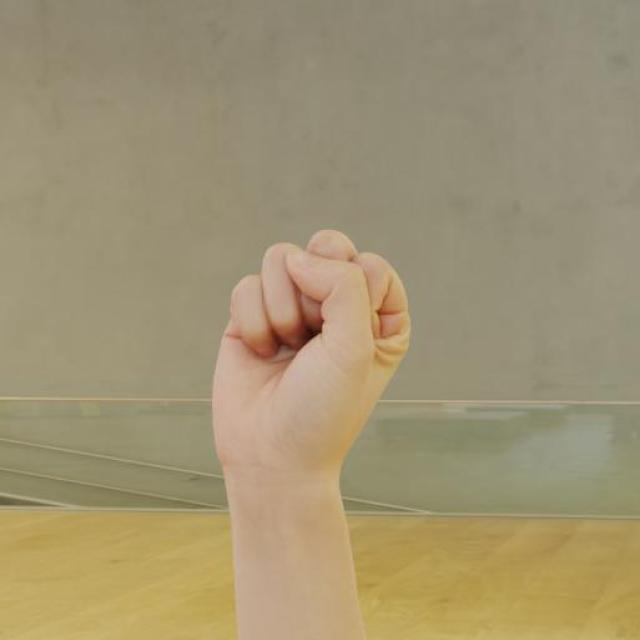S: (203, 224, 420, 485)
